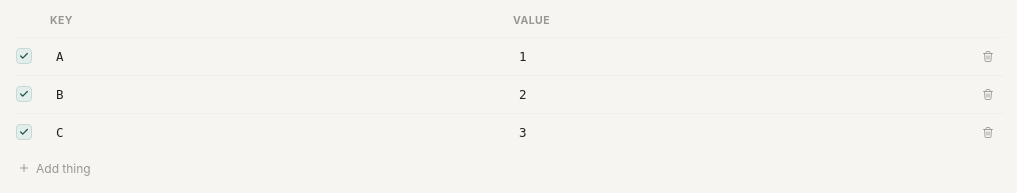
Scenario: KeyValueTable › keeps a surviving row keyed by its own identity (not its array position) when an earlier row is removed
Click the button named "Remove A".
click(988, 56)  # box top-left (976, 44), bottom-right (1000, 68)
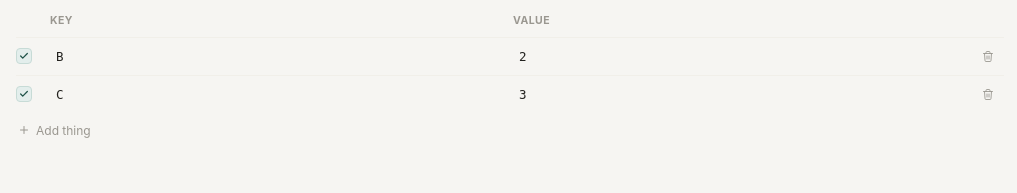
Result: the number of fields named "value" is 2 at top-left (513, 44), bottom-right (966, 69); top-left (513, 82), bottom-right (966, 107)
